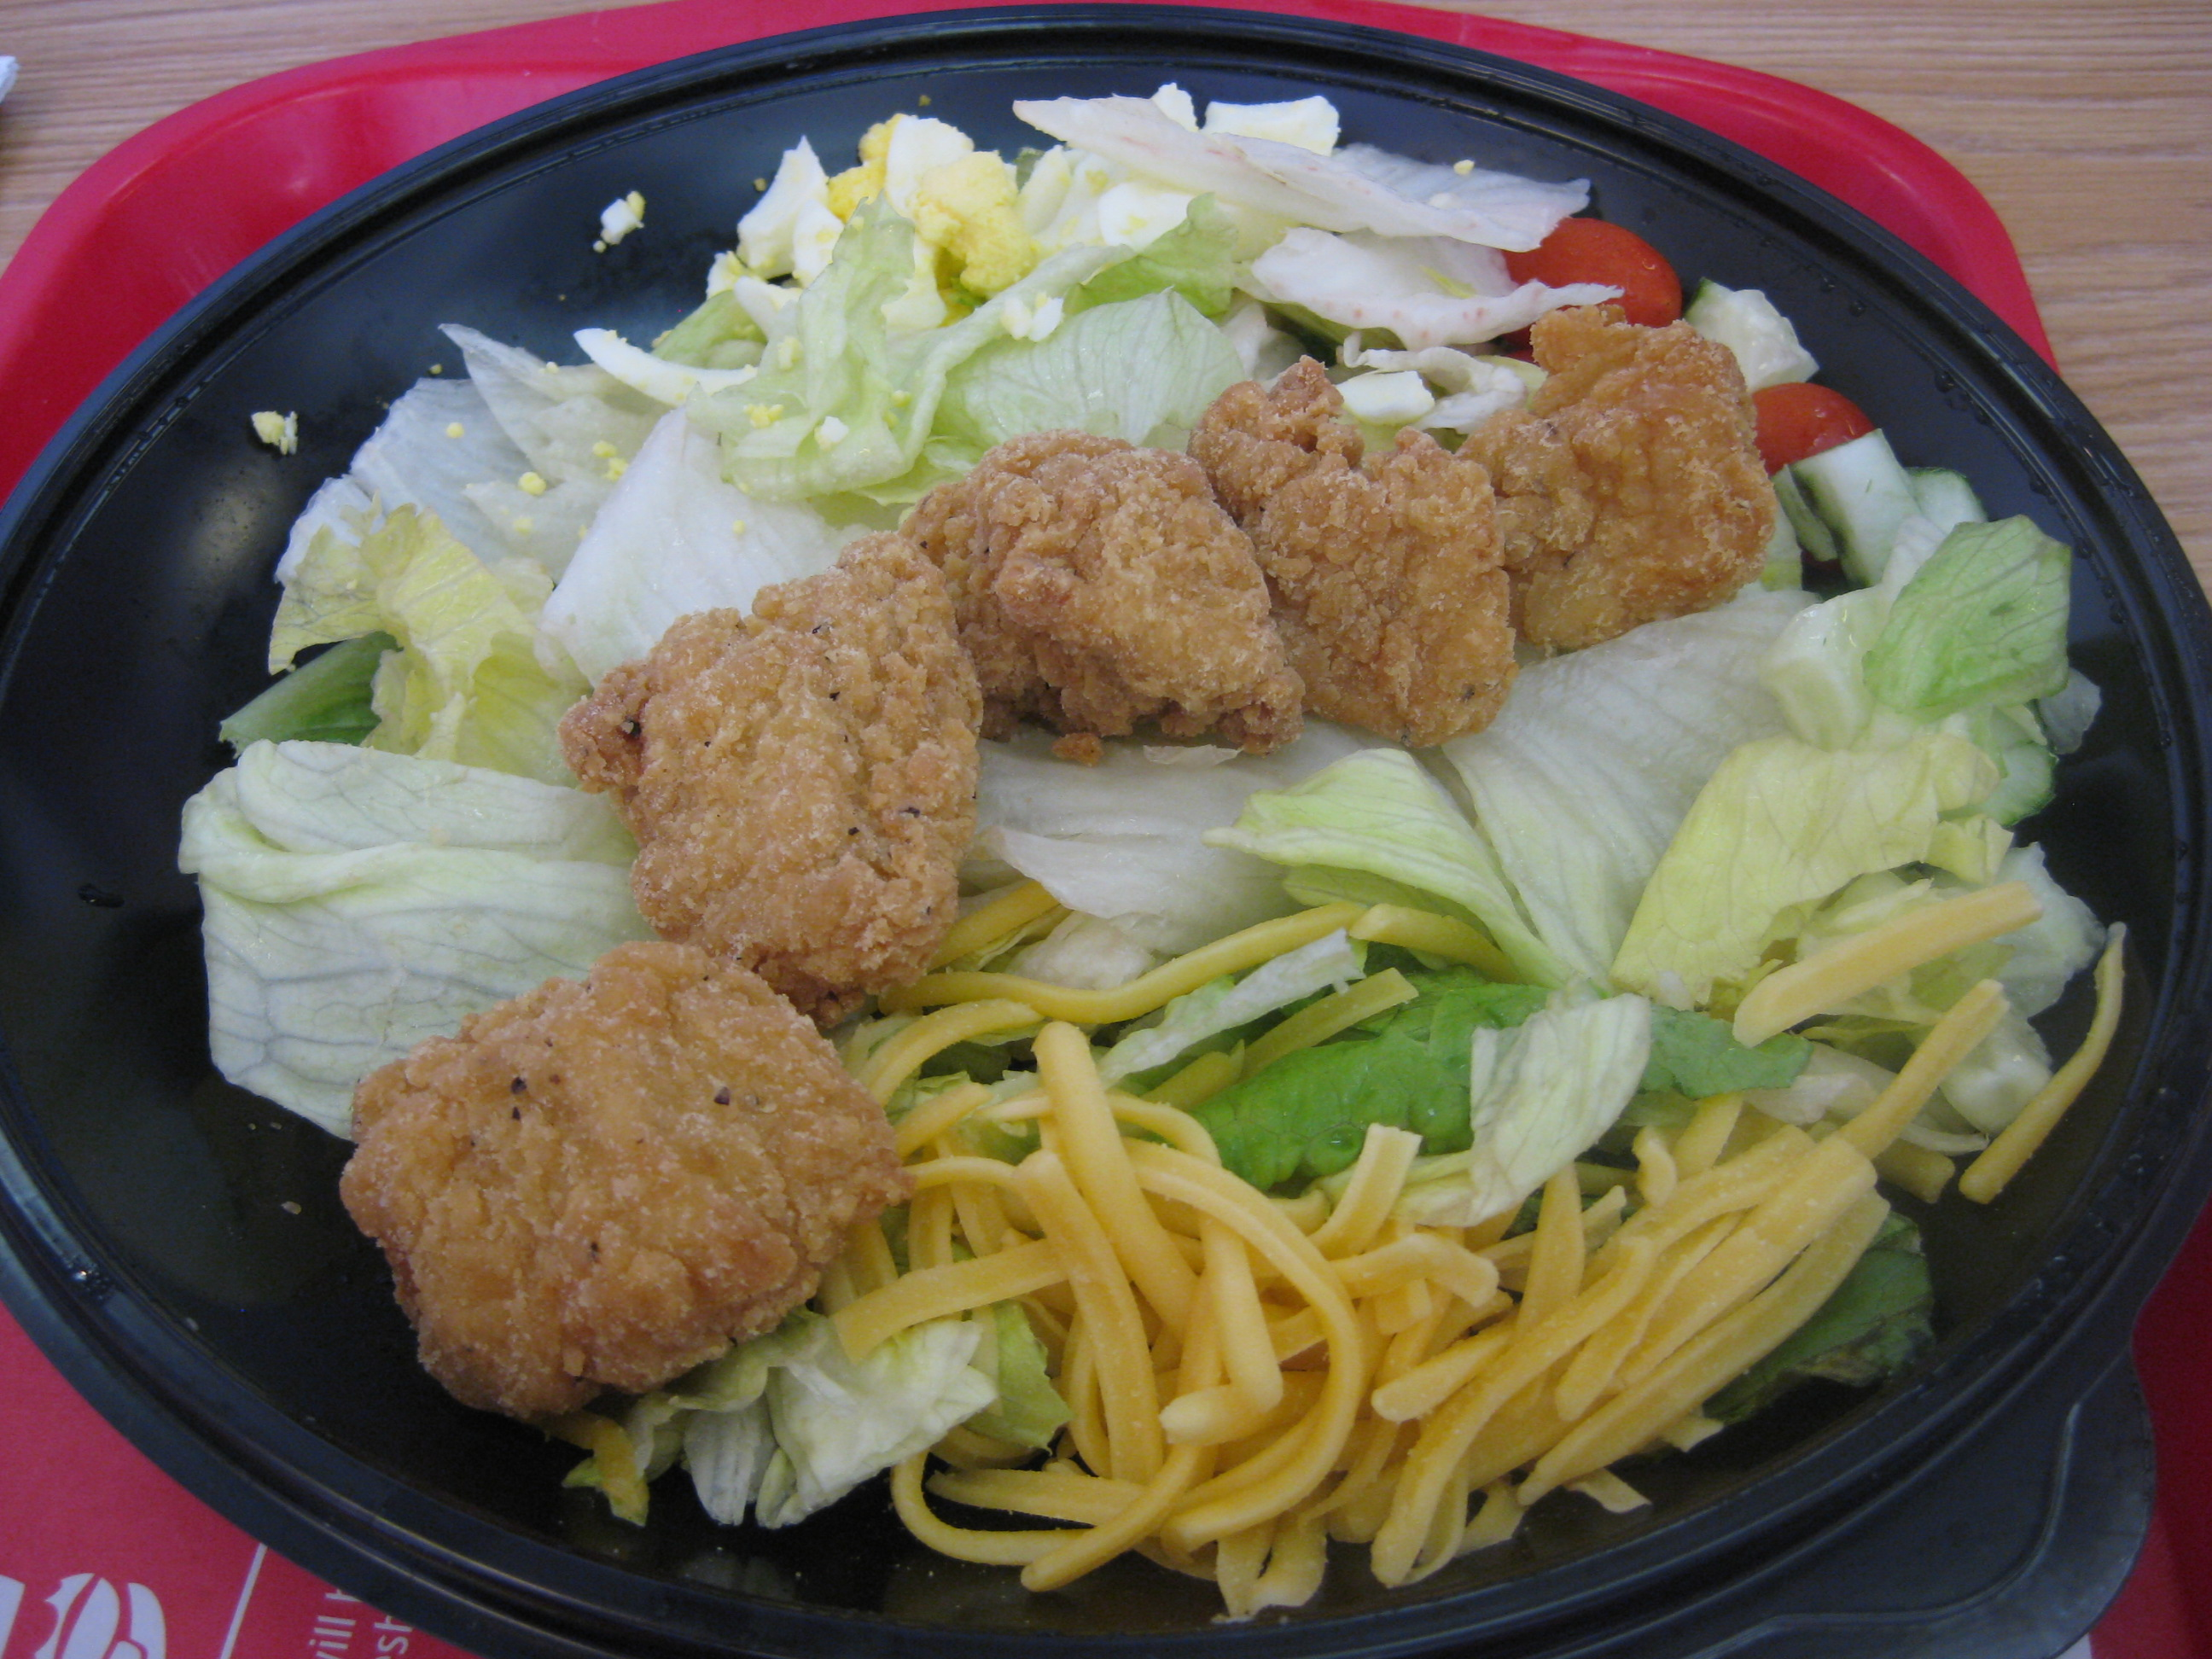salad: (38, 50, 2180, 1599)
